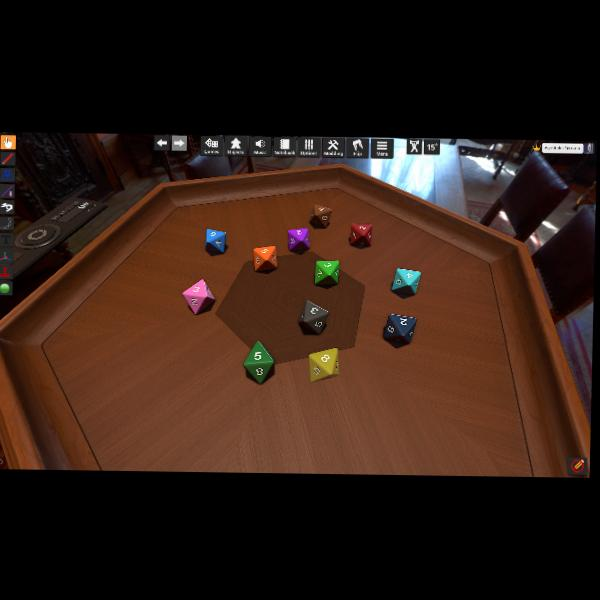d8: (243, 341, 275, 383), (182, 277, 215, 313), (308, 347, 338, 381), (385, 313, 417, 343), (300, 300, 328, 334), (392, 267, 420, 295), (253, 245, 278, 271), (315, 259, 339, 285), (350, 223, 372, 246), (205, 228, 226, 252), (310, 204, 331, 228), (288, 228, 308, 251)
